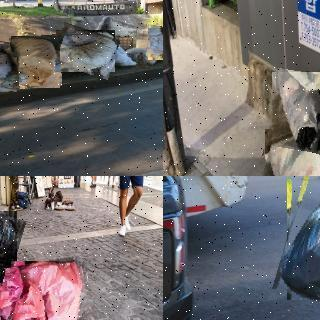Garbage: (7, 257, 91, 320), (279, 176, 320, 303), (269, 70, 320, 151), (54, 26, 117, 76), (260, 124, 320, 176), (10, 36, 61, 90), (0, 207, 21, 294), (0, 46, 19, 95), (146, 26, 163, 61)
